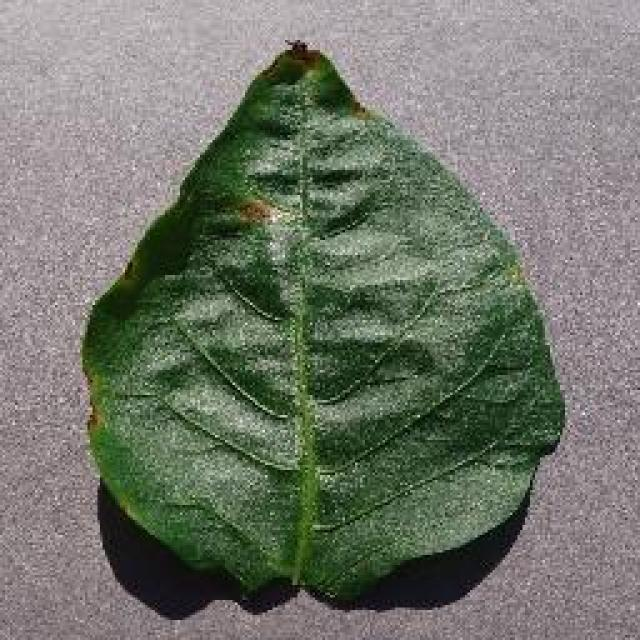Chilli_Bacterial_Spot: (75, 38, 567, 608), (260, 35, 328, 87), (232, 195, 278, 227), (278, 35, 320, 65), (345, 95, 373, 123)
